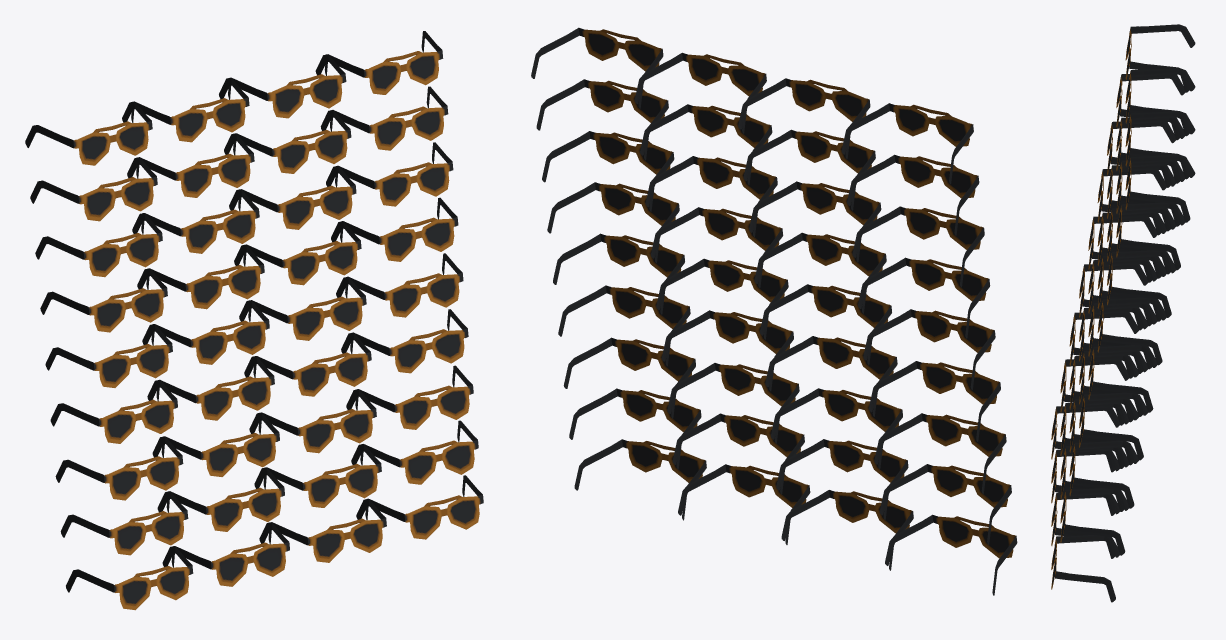
File: SM_Prop_Shop_Stand_05_Insert_03.fbx
The picture shows the model from 3 angles, left to right: view 1: azimuth 30°, elevation 25°; view 2: azimuth 150°, elevation 25°; view 3: azimuth 270°, elevation 25°; orthographic projection. The views are drawn at different scales.
Visible parts, largest first — view 1: SM_Prop_Shop_Stand_05_Insert_03; view 2: SM_Prop_Shop_Stand_05_Insert_03; view 3: SM_Prop_Shop_Stand_05_Insert_03.
Boxes of the visible parts, box(x1,y1,x2,y2) form: SM_Prop_Shop_Stand_05_Insert_03: box(25, 31, 483, 610); SM_Prop_Shop_Stand_05_Insert_03: box(531, 27, 1017, 595); SM_Prop_Shop_Stand_05_Insert_03: box(1051, 24, 1195, 602).
Size of the model in its own units: 103 by 119 by 39.58.
